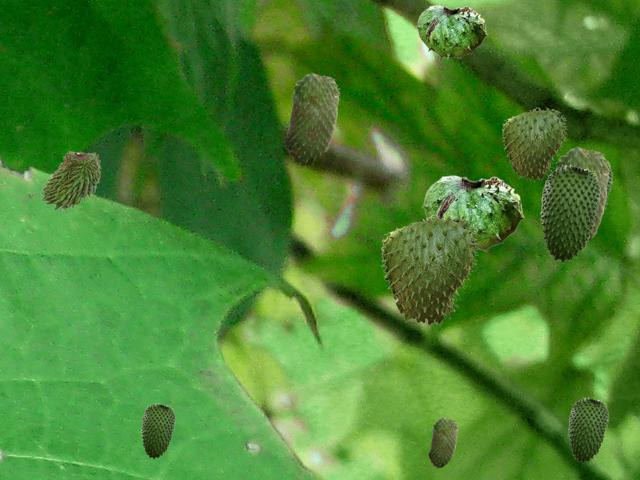guyabano: (381, 214, 479, 327), (422, 175, 523, 252), (540, 164, 599, 262), (555, 146, 609, 252), (284, 72, 339, 166), (502, 107, 567, 181), (416, 5, 486, 60), (40, 149, 100, 209), (568, 397, 607, 462), (141, 403, 174, 458), (428, 417, 457, 467), (602, 159, 611, 217)
